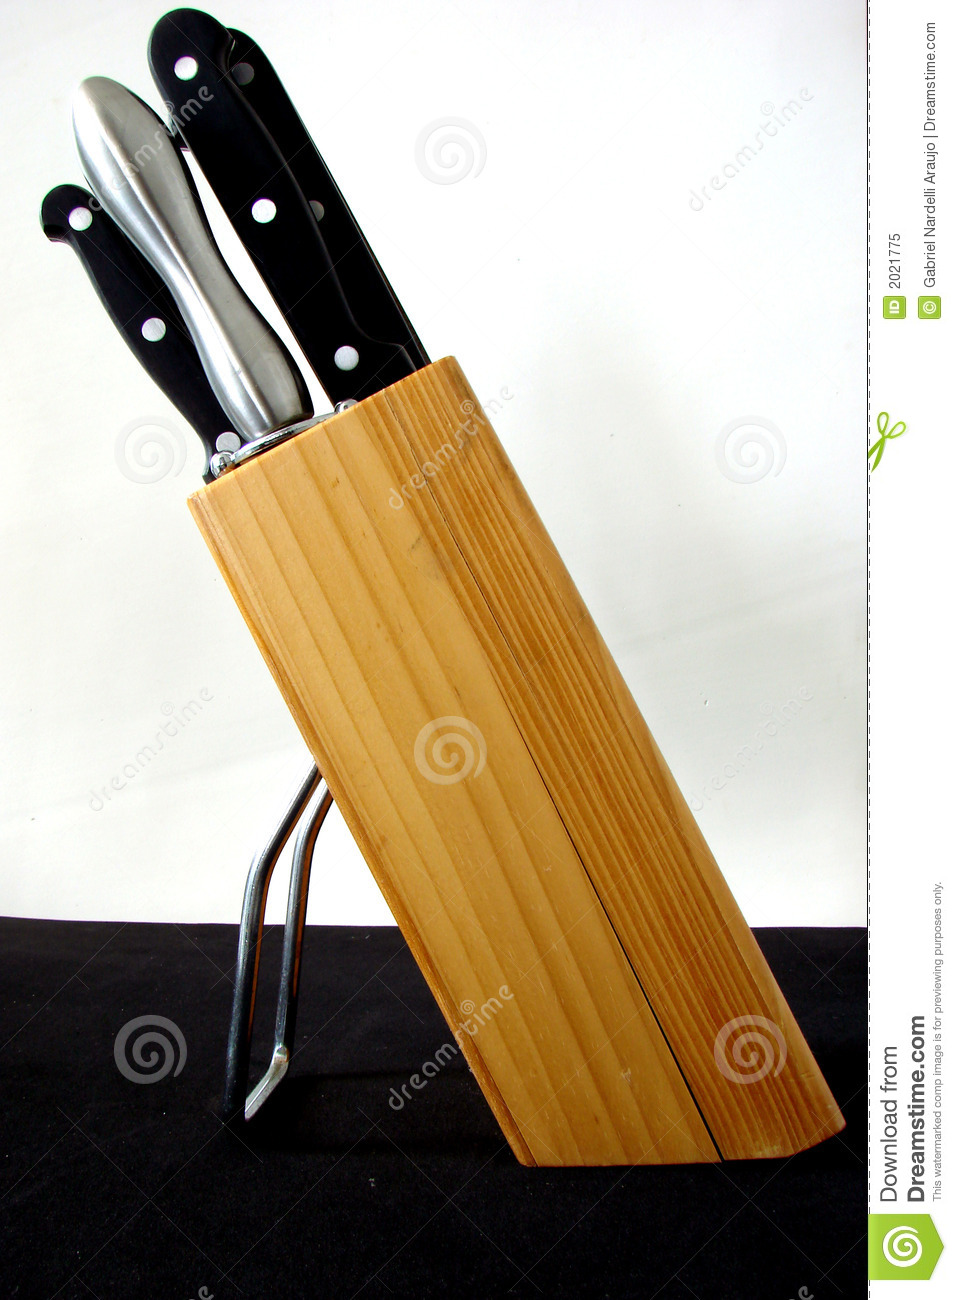knief: (26, 40, 472, 502)
